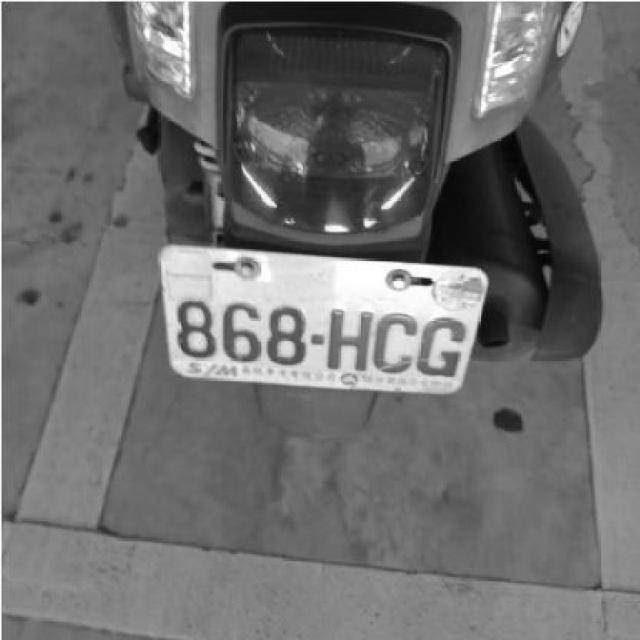-: (310, 334, 324, 348)
6: (218, 299, 260, 366)
8: (265, 298, 306, 368), (174, 295, 214, 363)
C: (369, 308, 422, 375)
G: (413, 313, 470, 379)
H: (325, 306, 374, 369)
